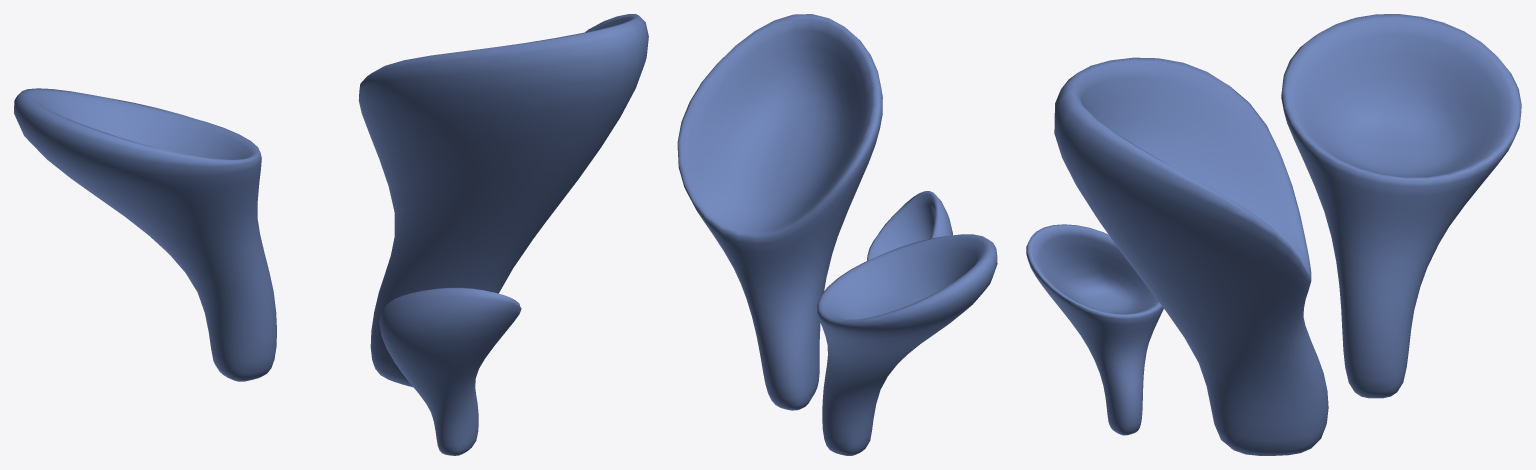
The model's file is grzybki_1.FBX.
3 renders of one model, left to right at view 1: azimuth 30°, elevation 25°; view 2: azimuth 150°, elevation 25°; view 3: azimuth 270°, elevation 25°, orthographic. The views are drawn at different scales.
Parts seen in each view (by area): view 1: Cube.008; view 2: Cube.008; view 3: Cube.008.
Part boxes in pixels (x1=…): Cube.008: x1=14, y1=14, x2=648, y2=455; Cube.008: x1=677, y1=14, x2=997, y2=455; Cube.008: x1=1026, y1=14, x2=1521, y2=455.
Size of the model in its own units: 1.43 by 1.17 by 1.32.
